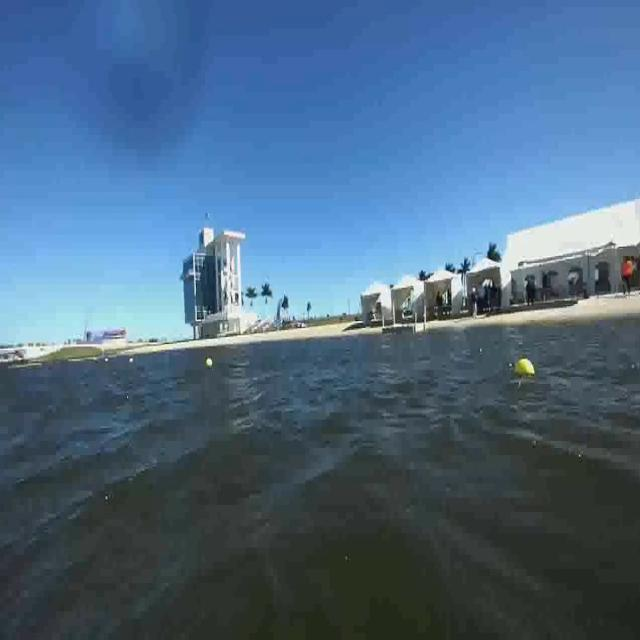yellow-buoy: (515, 358, 536, 375)
